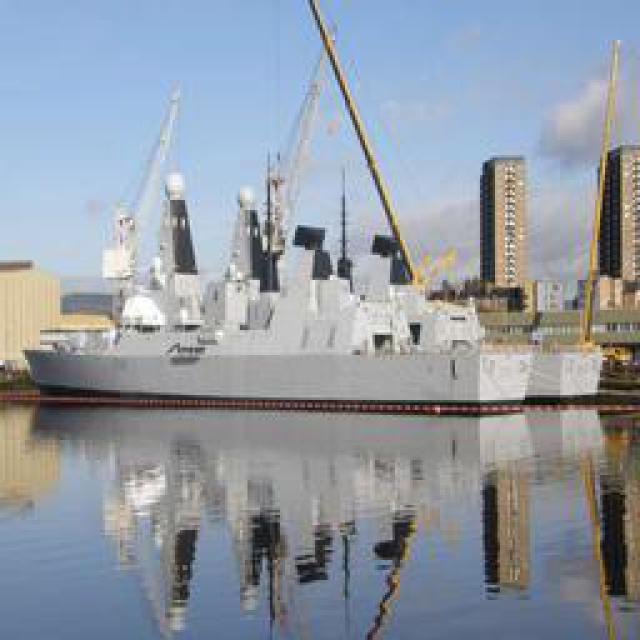Ship: (31, 45, 621, 428)
